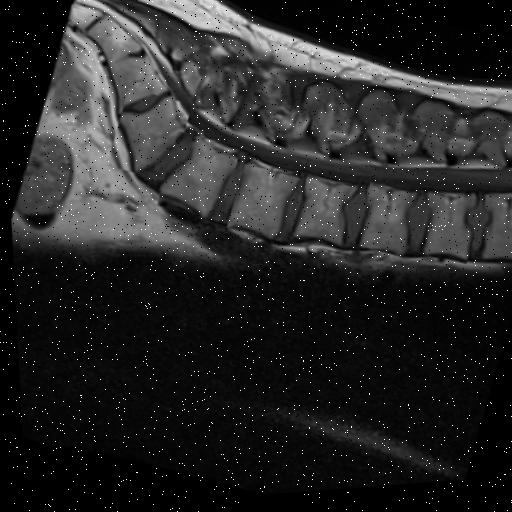L1: (418, 199, 472, 265)
L2: (356, 189, 412, 259)
L3: (287, 180, 353, 250)
L4: (223, 167, 297, 244)
L5: (157, 138, 236, 221)
S1: (116, 100, 182, 175)
